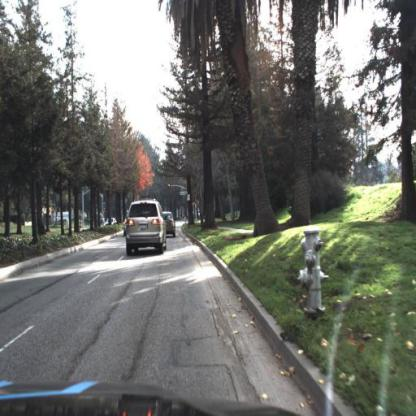car: (123, 196, 172, 259), (163, 211, 176, 240), (122, 216, 129, 239), (106, 217, 119, 229)
trafficLight-Red: (168, 182, 172, 190)
